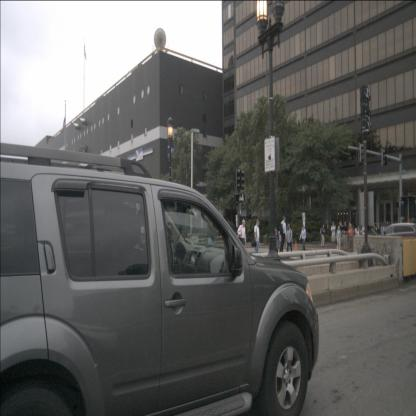cone: (294, 240, 298, 251)
